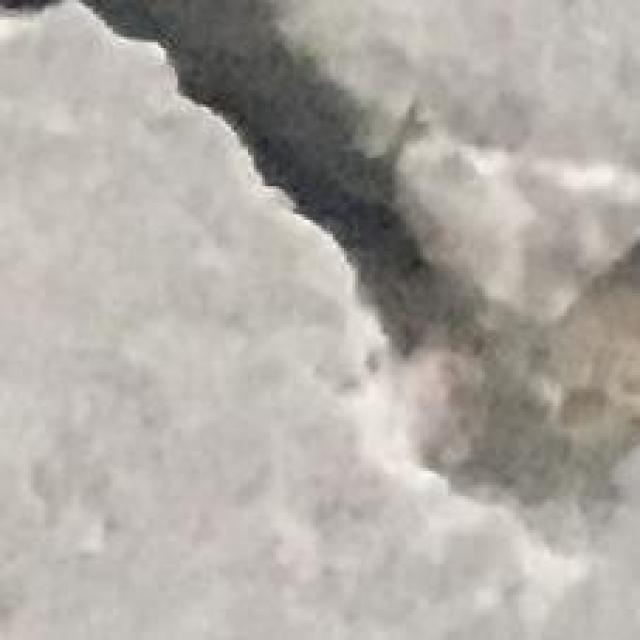diagonal crack: (70, 0, 522, 381)
